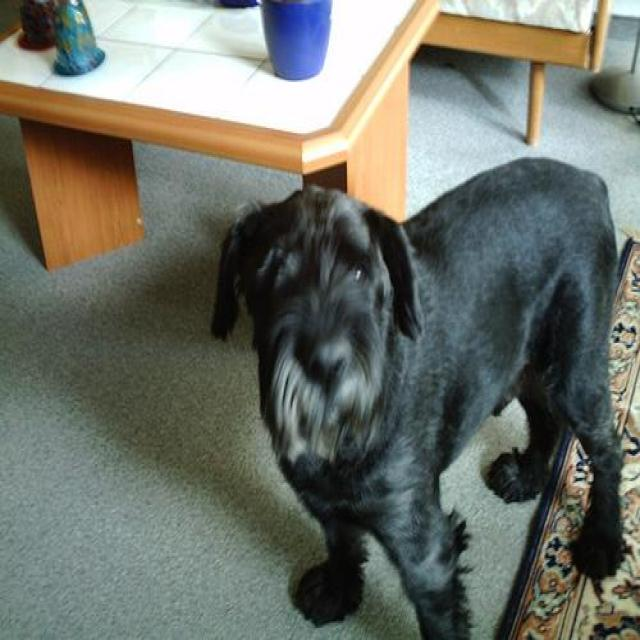standard_schnauzer: (209, 159, 623, 638)
